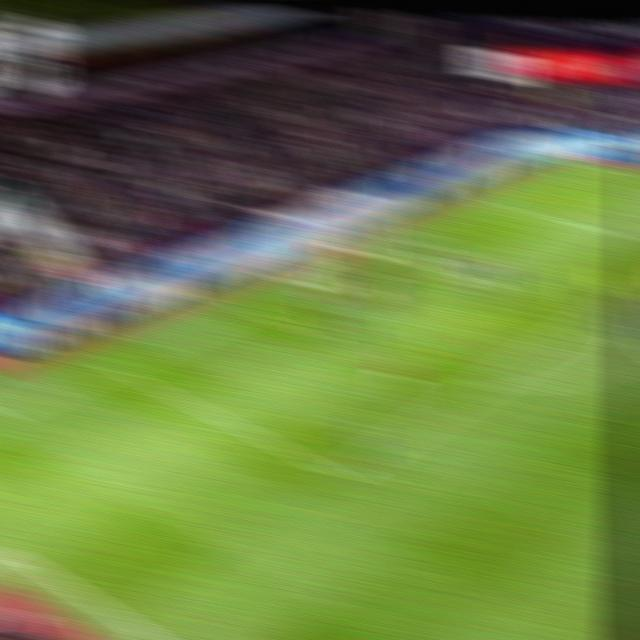bigarea_bottom_inner: (321, 458, 362, 489)
bigarea_bottom_outter: (94, 354, 132, 378)
bigarea_top_outter: (482, 191, 516, 211)
bottom_arc_area_intersection: (465, 373, 502, 396)
corner: (568, 155, 606, 172)
smallarea_bottom_inner: (295, 322, 333, 347)
smallarea_bottom_outter: (232, 298, 267, 318)
smallarea_top_inner: (460, 248, 495, 268)
smallarea_top_outter: (402, 226, 436, 246)
top_arc_area_intersection: (597, 296, 631, 315)
